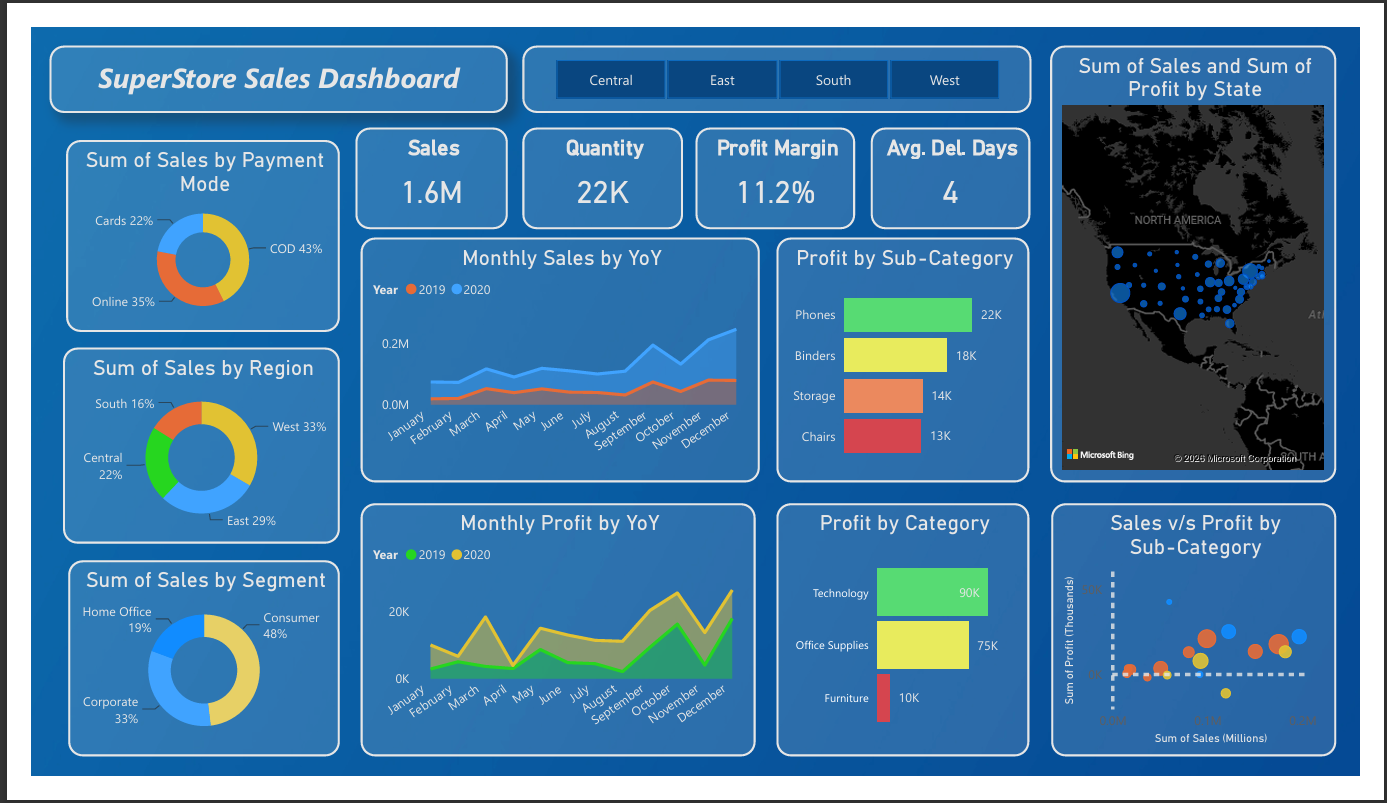

The dashboard page shown, as its layout file describes it:
{"tool":"powerbi","page":{"name":"Sales DashBoard","canvas":[1280,720],"ordinal":0},"visuals":[{"type":"clusteredBarChart","title":"Profit by Category","fields":{"Y":["Sum(SuperStore_Sales_Dataset.Profit)"],"Category":["SuperStore_Sales_Dataset.Category"]},"box":[718.3,458.3,243.3,243.3],"z":0},{"type":"clusteredBarChart","title":"Profit by Sub-Category","fields":{"Category":["SuperStore_Sales_Dataset.Sub-Category"],"Y":["Sum(SuperStore_Sales_Dataset.Profit)"]},"box":[718.3,201.7,243.3,236.7],"z":1000},{"type":"stackedAreaChart","title":"Monthly Sales by YoY ","fields":{"Y":["Sum(SuperStore_Sales_Dataset.Sales)"],"Category":["SuperStore_Sales_Dataset.Order Date.Variation.Date Hierarchy.Month","SuperStore_Sales_Dataset.Order Date.Variation.Date Hierarchy.Day"],"Series":["SuperStore_Sales_Dataset.Order Date.Variation.Date Hierarchy.Year"]},"box":[316.7,201.7,385,236.7],"z":2000},{"type":"stackedAreaChart","title":"Monthly Profit by YoY ","fields":{"Category":["SuperStore_Sales_Dataset.Order Date.Variation.Date Hierarchy.Month","SuperStore_Sales_Dataset.Order Date.Variation.Date Hierarchy.Day"],"Series":["SuperStore_Sales_Dataset.Order Date.Variation.Date Hierarchy.Year"],"Y":["Sum(SuperStore_Sales_Dataset.Profit)"]},"box":[316.7,458.3,381.7,243.3],"z":3000},{"type":"map","fields":{"Category":["SuperStore_Sales_Dataset.State"],"Size":["Sum(SuperStore_Sales_Dataset.Sales)"]},"box":[981.7,16.7,276.7,421.7],"z":4000},{"type":"donutChart","fields":{"Category":["SuperStore_Sales_Dataset.Segment"],"Y":["Sum(SuperStore_Sales_Dataset.Sales)"]},"box":[35,513.3,261.7,188.3],"z":5000},{"type":"donutChart","fields":{"Category":["SuperStore_Sales_Dataset.Payment Mode"],"Y":["Sum(SuperStore_Sales_Dataset.Sales)"]},"box":[33.3,108.3,263.3,185],"z":6000},{"type":"slicer","fields":{"Values":["SuperStore_Sales_Dataset.Region"]},"box":[473.3,16.7,490.7,65.5],"z":7000},{"type":"textbox","box":[16.8,16.8,441.9,65.5],"z":8000},{"type":"card","title":"Quantity","fields":{"Values":["Sum(SuperStore_Sales_Dataset.Quantity)"]},"box":[472.6,96.2,155.9,97.8],"z":9000},{"type":"card","title":"Sales","fields":{"Values":["Sum(SuperStore_Sales_Dataset.Sales)"]},"box":[311.7,96.2,147.6,97.8],"z":10000},{"type":"card","title":"Profit Margin","fields":{"Values":["SalesForecast.Profit Margin %"]},"box":[640,96.2,154.2,97.8],"z":11000},{"type":"card","title":"Avg. Del. Days","fields":{"Values":["Avg(SuperStore_Sales_Dataset.AvgDelivery)"]},"box":[809.1,96.2,154.2,97.8],"z":12000},{"type":"donutChart","fields":{"Category":["SuperStore_Sales_Dataset.Region"],"Y":["Sum(SuperStore_Sales_Dataset.Sales)"]},"box":[30,308.3,266.7,188.3],"z":13000},{"type":"scatterChart","title":"Sales v/s Profit by Sub-Category","fields":{"X":["Sum(SuperStore_Sales_Dataset.Sales)"],"Y":["Sum(SuperStore_Sales_Dataset.Profit)"],"Category":["SuperStore_Sales_Dataset.Sub-Category"],"Series":["SuperStore_Sales_Dataset.Category"],"Size":["Sum(SuperStore_Sales_Dataset.Quantity)"]},"box":[983.3,458.3,275,243.3],"z":14000}]}

Visuals, with their boxes in screenshot pixels (x1, y1, x2, y2), scaled from the page's 1280x720 canvas onto the 1387x803 screenshot:
"Profit by Category" clusteredBarChart: [778, 511, 1042, 782]
"Profit by Sub-Category" clusteredBarChart: [778, 225, 1042, 489]
"Monthly Sales by YoY " stackedAreaChart: [343, 225, 760, 489]
"Monthly Profit by YoY " stackedAreaChart: [343, 511, 757, 782]
map - SuperStore_Sales_Dataset.State x Sum(SuperStore_Sales_Dataset.Sales): [1064, 19, 1364, 489]
donutChart - SuperStore_Sales_Dataset.Segment x Sum(SuperStore_Sales_Dataset.Sales): [38, 572, 322, 782]
donutChart - SuperStore_Sales_Dataset.Payment Mode x Sum(SuperStore_Sales_Dataset.Sales): [36, 121, 321, 327]
slicer - SuperStore_Sales_Dataset.Region: [513, 19, 1045, 92]
textbox: [18, 19, 497, 92]
"Quantity" card: [512, 107, 681, 216]
"Sales" card: [338, 107, 498, 216]
"Profit Margin" card: [694, 107, 861, 216]
"Avg. Del. Days" card: [877, 107, 1044, 216]
donutChart - SuperStore_Sales_Dataset.Region x Sum(SuperStore_Sales_Dataset.Sales): [33, 344, 322, 554]
"Sales v/s Profit by Sub-Category" scatterChart: [1065, 511, 1363, 782]
